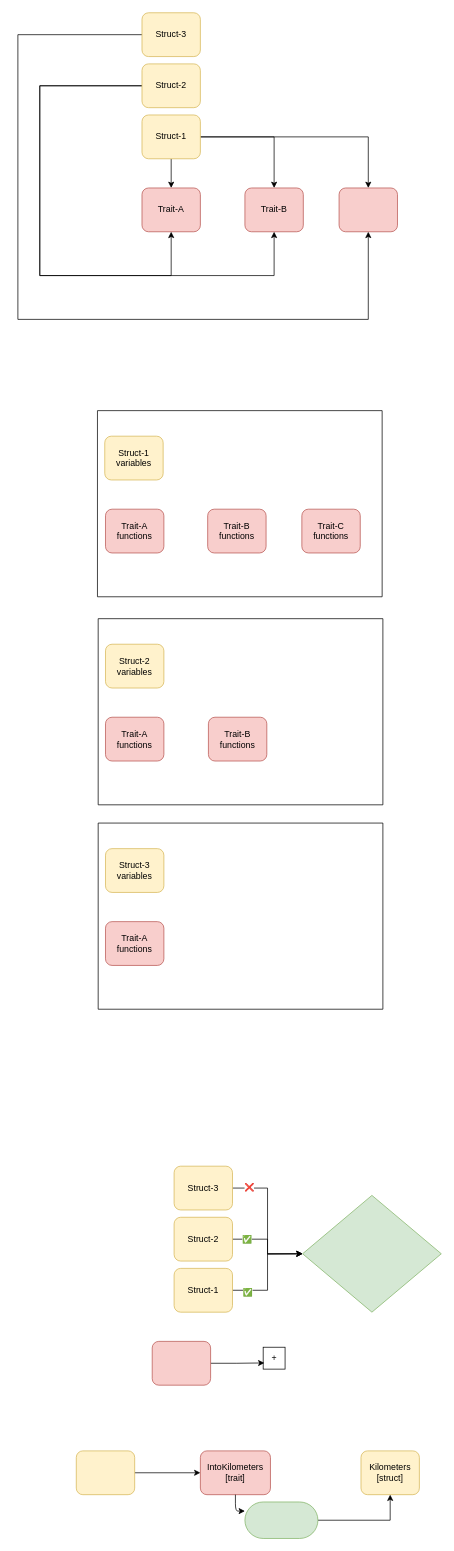
The diagram is 454 pixels wide and 1551 high, and some of its shapes have lost their labels. The shapes that lost their labels are listed below. From the top down, each one's centre as x and y in pixels, then its label:
(x=367, y=209): Trait-C
(x=371, y=1253): Function taking object with trait B as input
(x=181, y=1363): Add [trait]
(x=105, y=1472): Miles [struct]
(x=281, y=1519): into_kms() [function]
